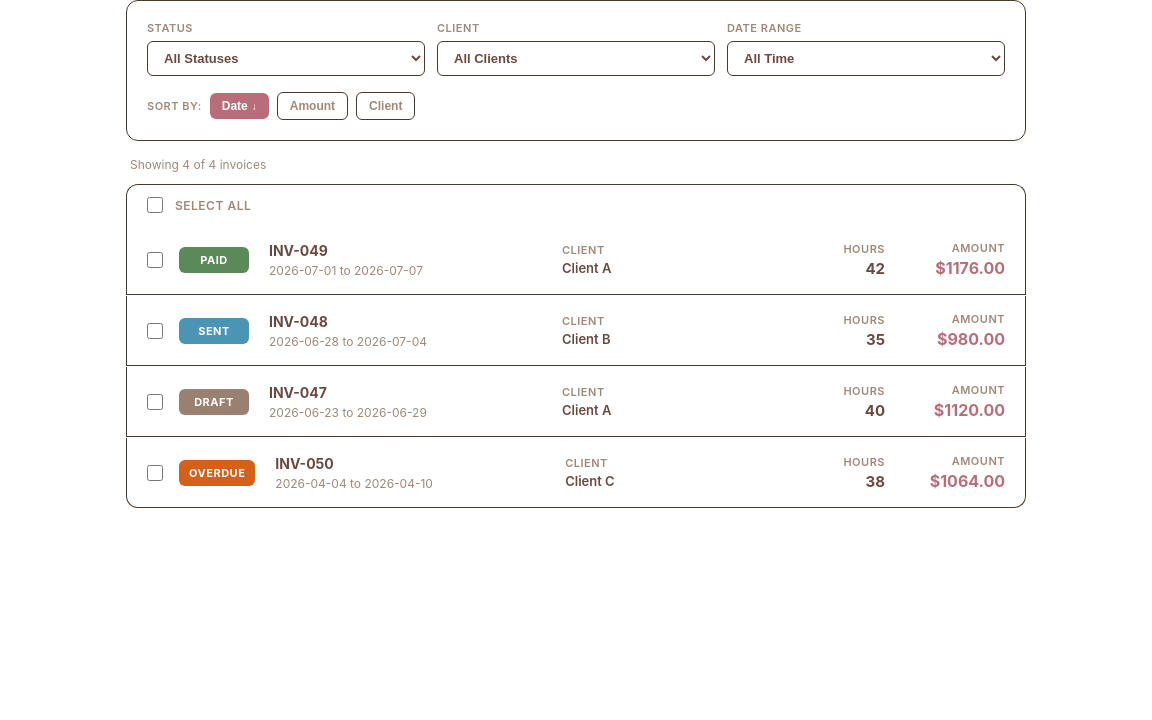
Scenario: ListView › selects individual invoices
// Check first invoice
Click the checkbox next to "Paid": (155, 260) [147, 252, 163, 268]
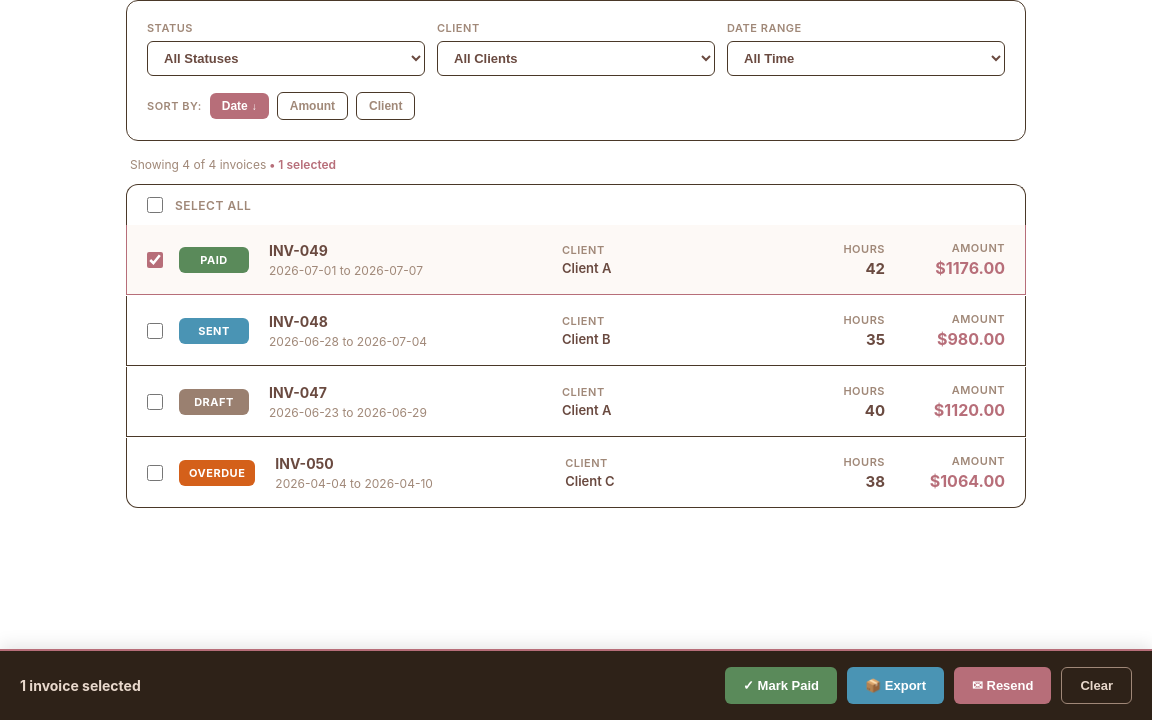
Expected: the text "1 invoice selected" is shown, [20, 677, 141, 694]
Expected: the button "✓ Mark Paid" is shown, [725, 667, 837, 704]
